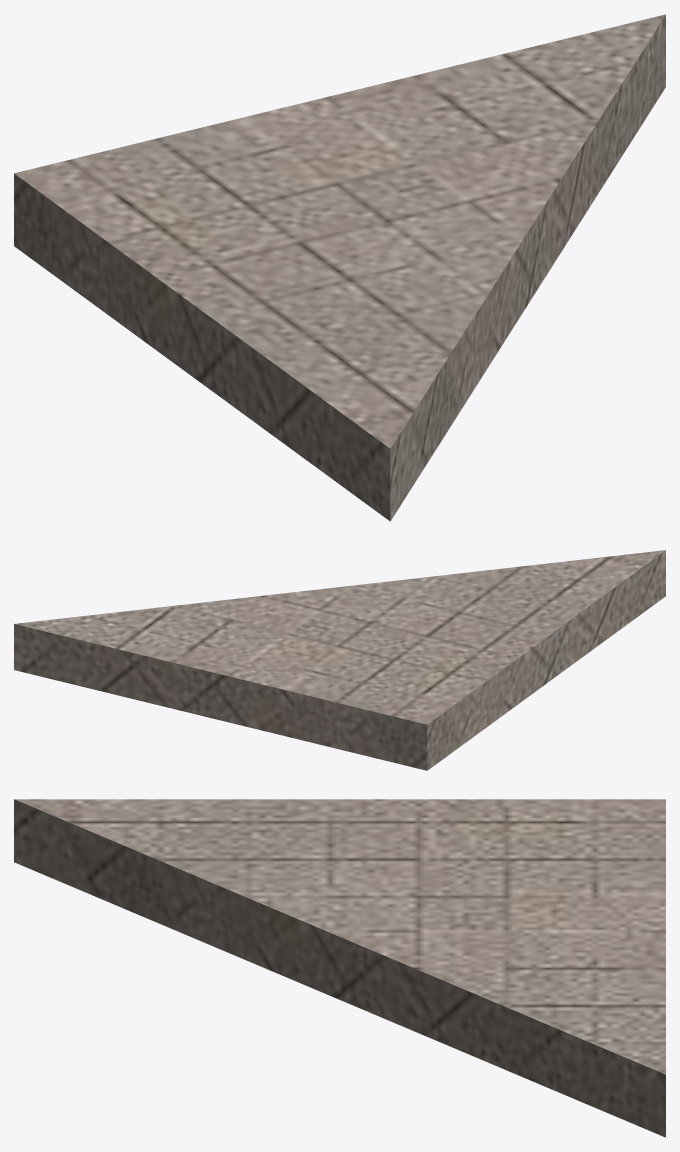
File: road_side_corner.fbx
3 renders of one model, top to bottom at view 1: azimuth 30°, elevation 25°; view 2: azimuth 150°, elevation 25°; view 3: azimuth 270°, elevation 25°, orthographic. The views are drawn at different scales.
Parts seen in each view (by area): view 1: road_side_corner; view 2: road_side_corner; view 3: road_side_corner.
Boxes of the visible parts, x1=… form: road_side_corner: x1=14, y1=14, x2=665, y2=521; road_side_corner: x1=14, y1=550, x2=665, y2=770; road_side_corner: x1=14, y1=799, x2=665, y2=1137.
Bounding box in the file's own units: 300 × 32 × 300.
1 material, 1 textured.
